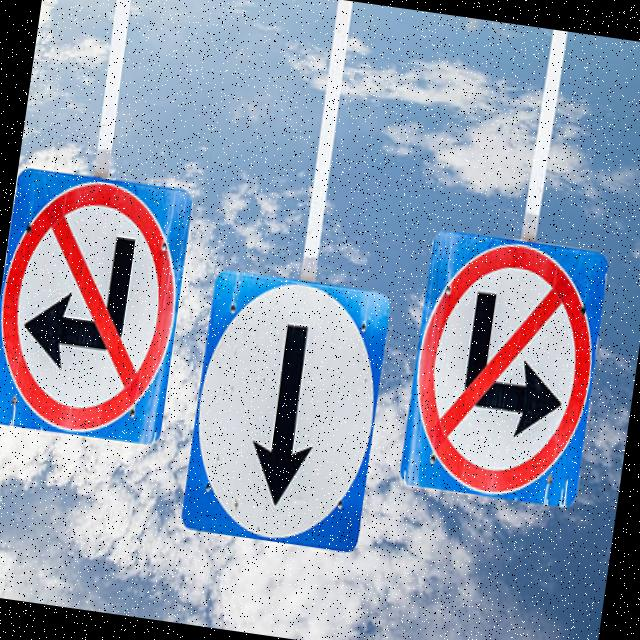do_not_turn_right: (0, 169, 195, 448)
